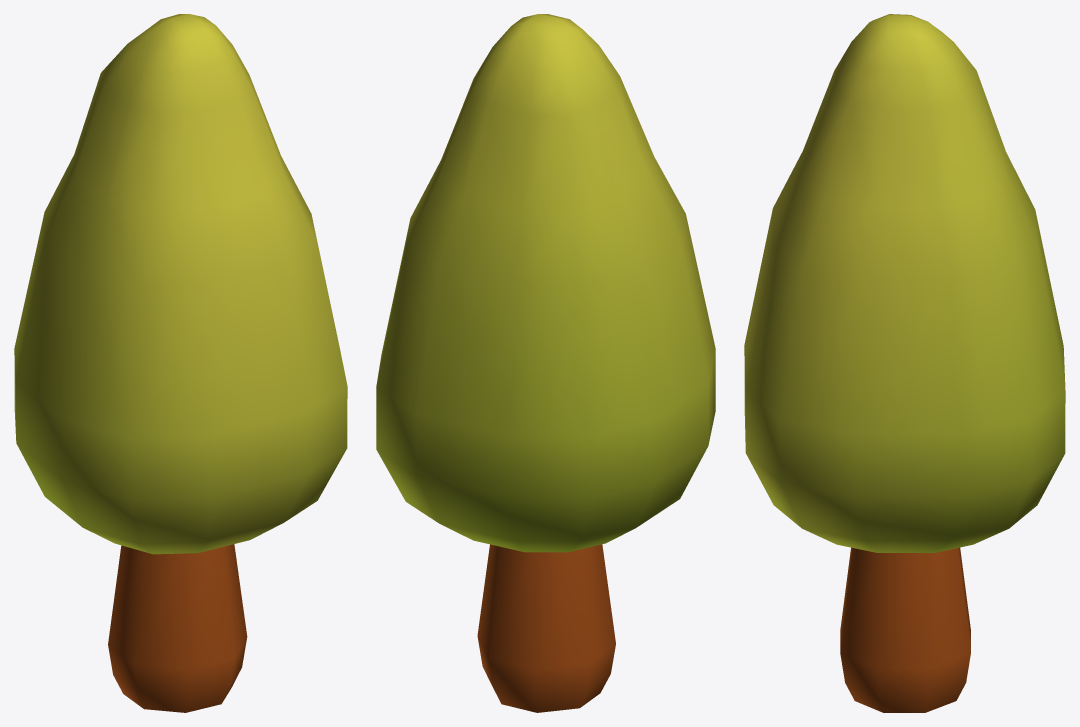
Rendered from SM_Tree_04.fbx.
3 views of the same model, side by side, from view 1: azimuth 30°, elevation 25°; view 2: azimuth 150°, elevation 25°; view 3: azimuth 270°, elevation 25° (orthographic).
Parts seen in each view (by area): view 1: SM_Tree_04; view 2: SM_Tree_04; view 3: SM_Tree_04.
Part boxes in pixels (box(x1,y1,x2,y2)): SM_Tree_04: box(14, 14, 347, 712); SM_Tree_04: box(376, 14, 715, 712); SM_Tree_04: box(744, 14, 1065, 712).
Bounding box in the file's own units: 224 × 517 × 223.
